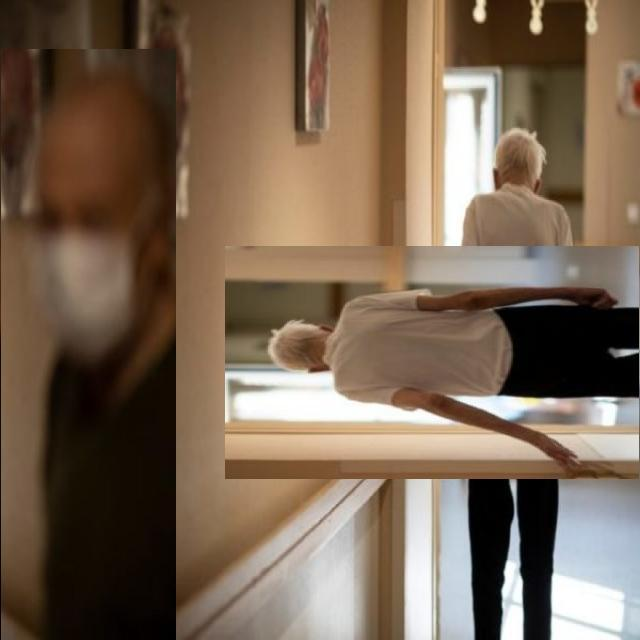NotFall: (250, 134, 640, 477)
